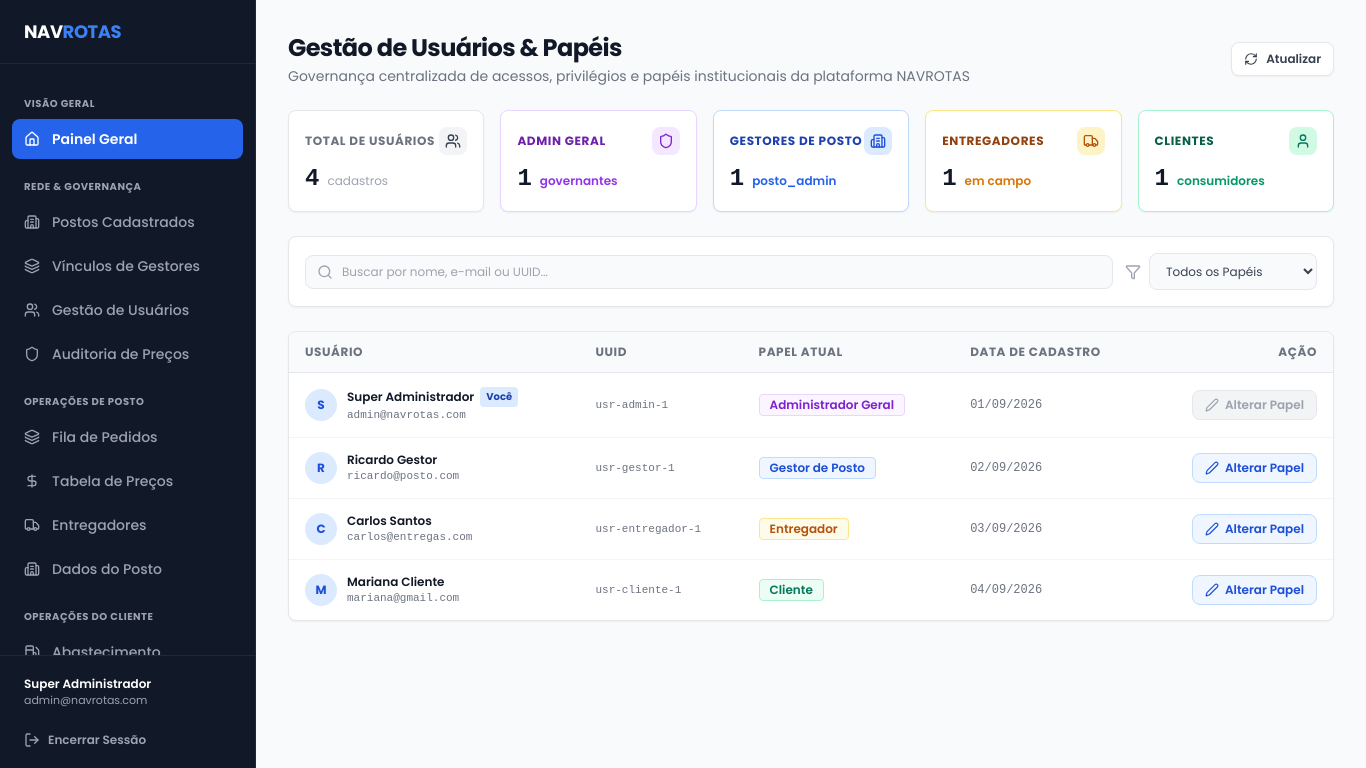
AdminUsuariosPage › permite abrir o modal e alterar o papel de um usuário
Expected: the text "Mariana Cliente" is shown, [347,574,444,590]
Clica no botão da Mariana Cliente (último botão)
Click the button "Alterar Papel" in the row of "Mariana Cliente" at (1254, 590), box [1192,575,1317,605]
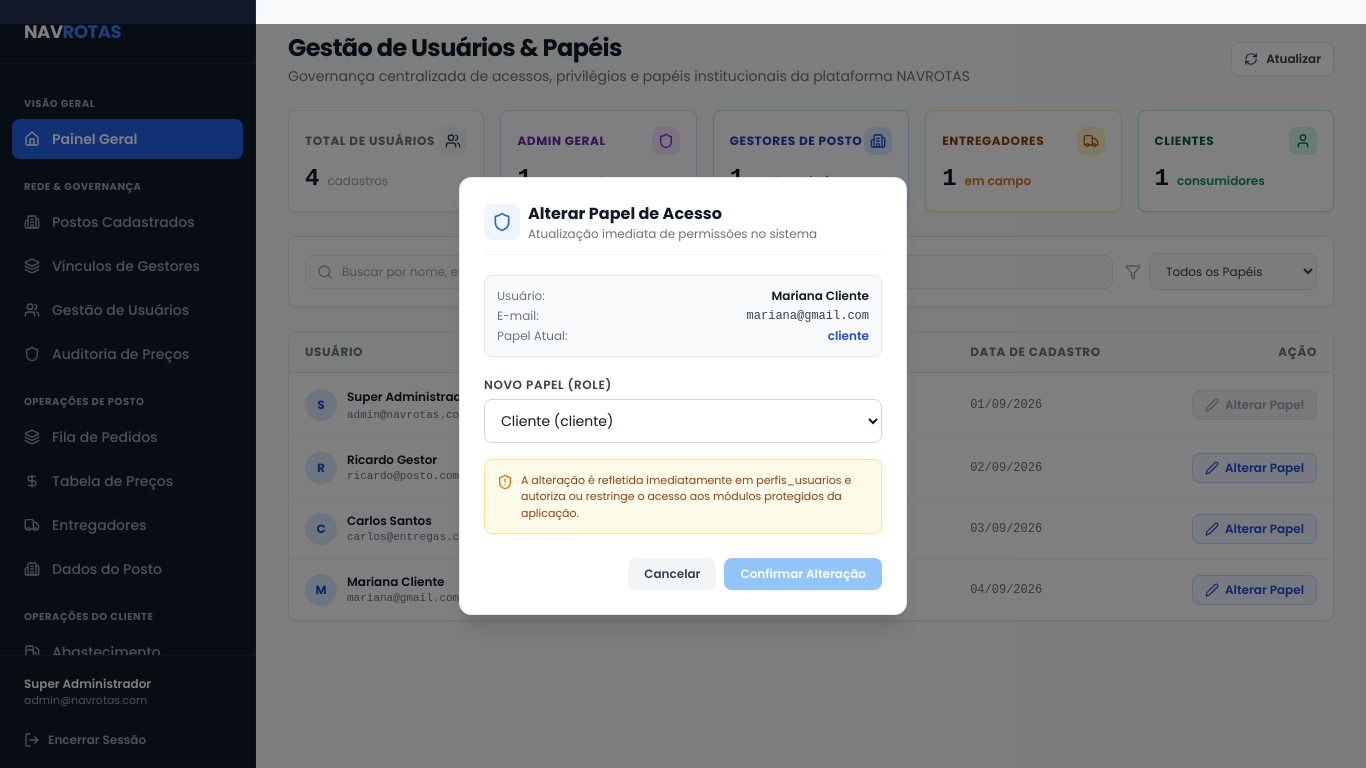
Result: the heading "Alterar Papel de Acesso" is shown at [528,202,722,225]
Seleciona nova role posto_admin
Select "Gestor de Posto (posto_admin)" in the dropdown at (683, 421), box [484,399,882,443]
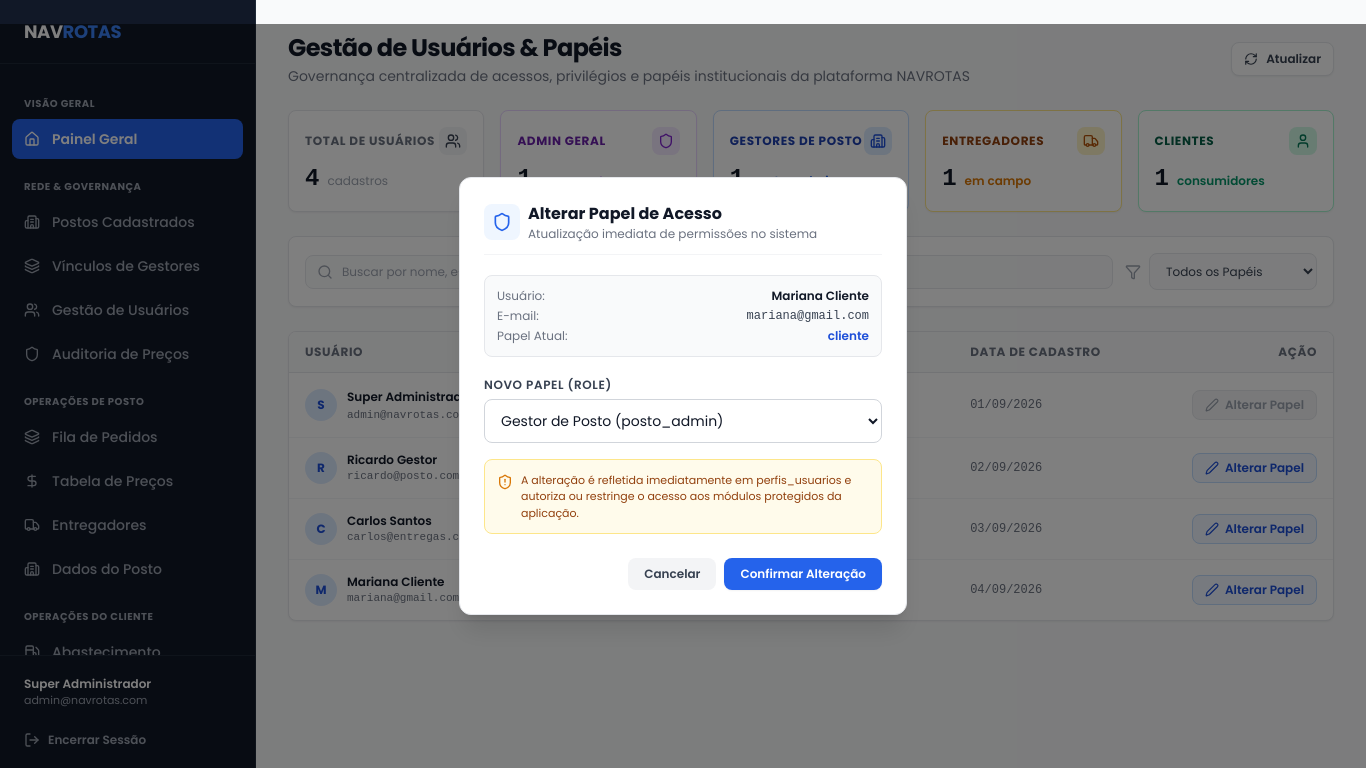
Submete formulário
Click the button "Confirmar Alteração" at (803, 574), box [724,558,882,590]
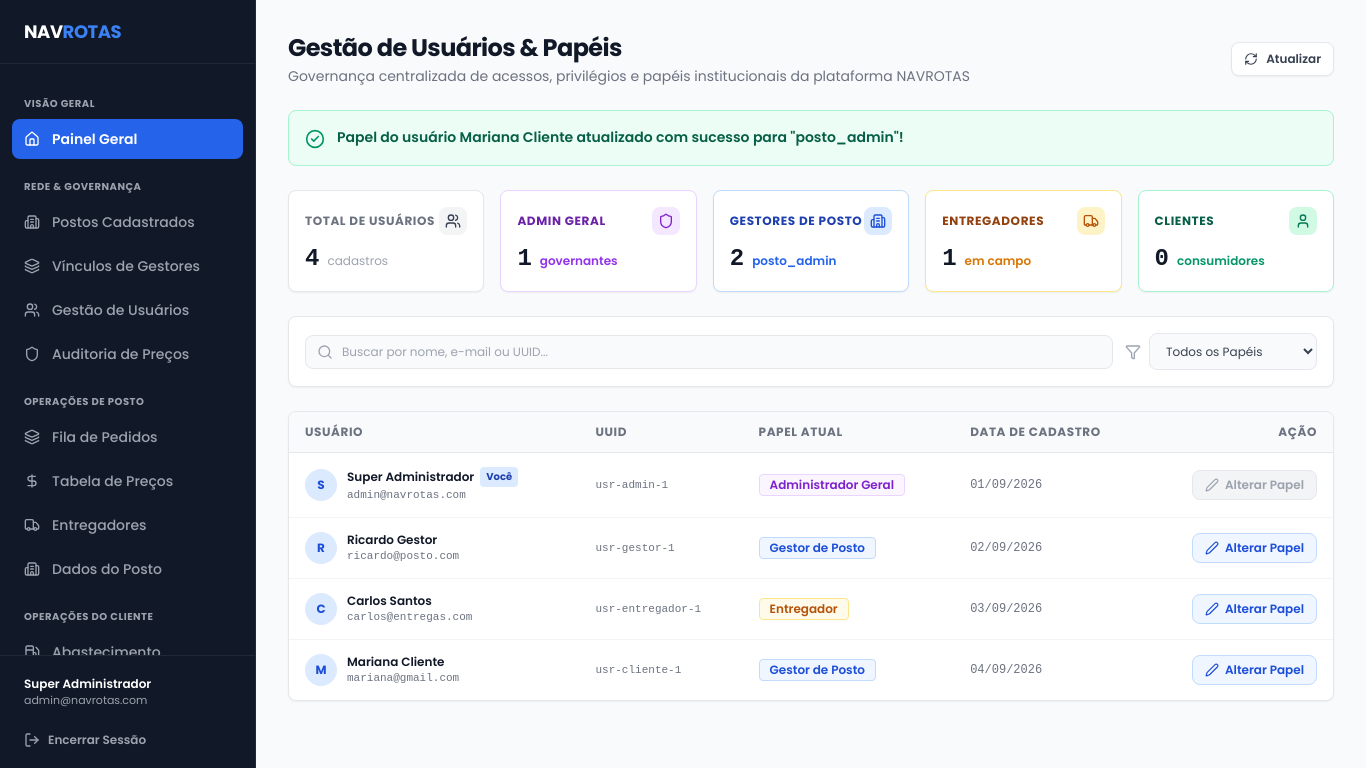
Result: the text "Papel do usuário Mariana Cliente atualizado com sucesso" is shown at [337,127,904,147]
